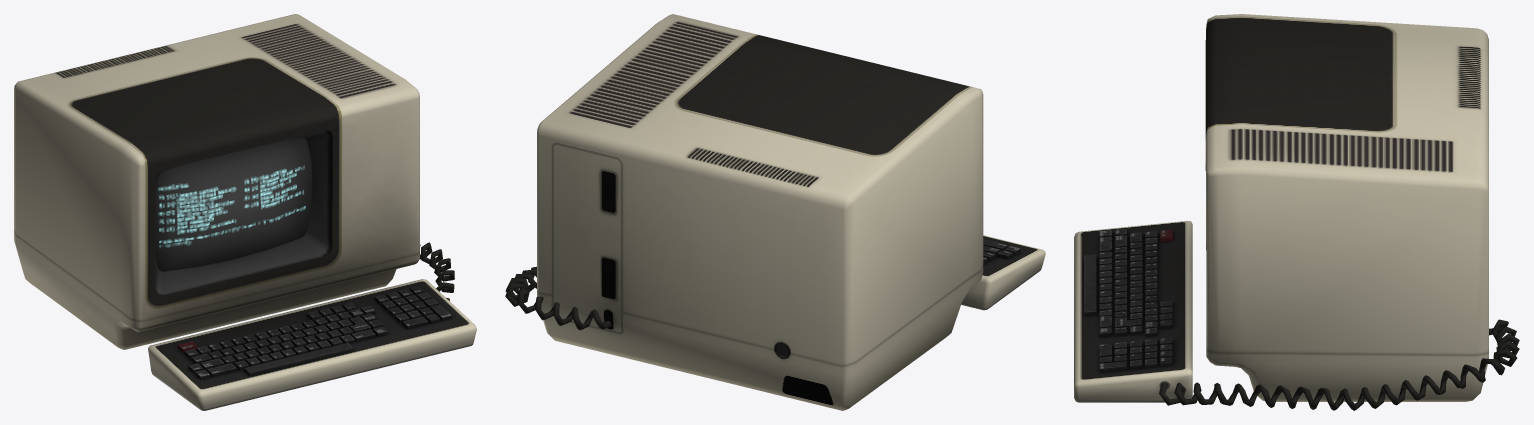
Rendered from vintage_terminal.glb.
The picture shows the model from 3 angles, left to right: view 1: azimuth 30°, elevation 25°; view 2: azimuth 150°, elevation 25°; view 3: azimuth 270°, elevation 25°; orthographic projection. The views are drawn at different scales.
Visible parts, largest first — view 1: Object_6, Object_3, Object_2, Object_7, Object_4, Object_5; view 2: Object_6, Object_2, Object_5, Object_7; view 3: Object_6, Object_2, Object_7, Object_5.
Part boxes in pixels (x1,y1,x2,y2): Object_6: (14,14,419,349); Object_3: (155,137,312,271); Object_2: (148,279,476,410); Object_7: (177,286,451,379); Object_4: (155,130,332,295); Object_5: (420,242,454,300); Object_6: (537,14,983,410); Object_2: (961,235,1045,310); Object_5: (505,266,611,330); Object_7: (983,239,1020,263); Object_6: (1205,14,1488,401); Object_2: (1074,221,1192,402); Object_7: (1084,228,1172,372); Object_5: (1159,319,1519,410).
Size of the model in its own units: 3.13 by 1.97 by 3.31.
6 materials, 6 textured.
